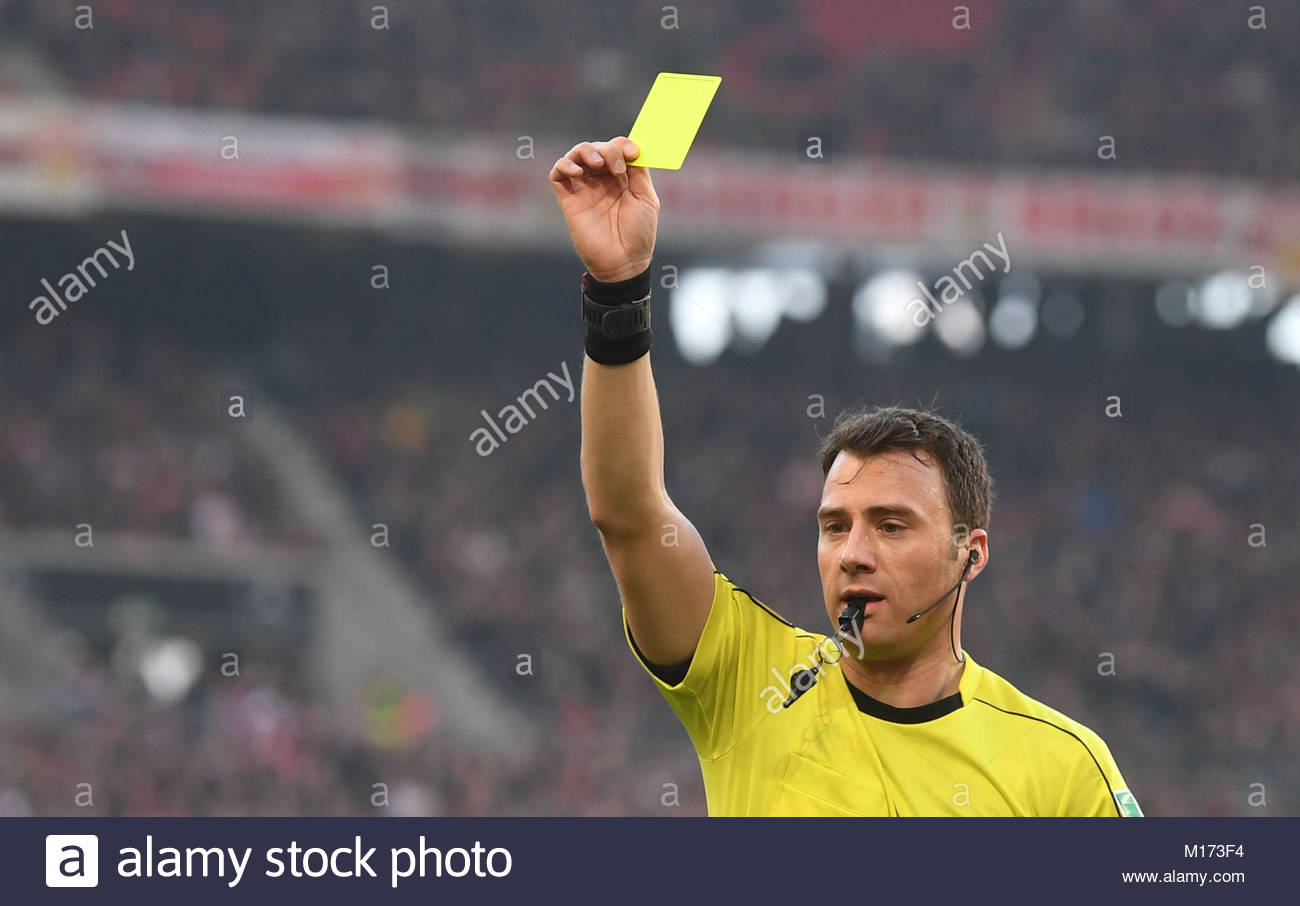yellow_card: (538, 45, 741, 283)
